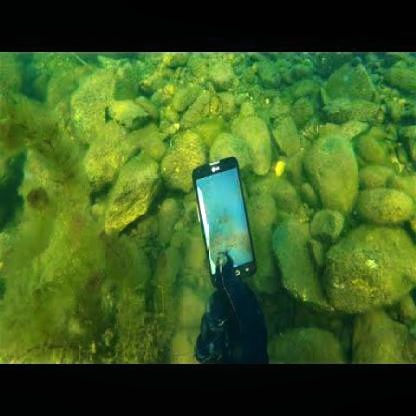cellphone: (192, 156, 256, 287)
